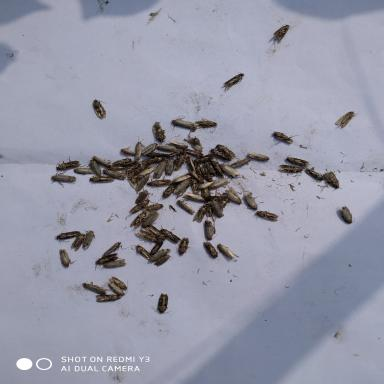pbw: (147, 287, 175, 318), (85, 95, 116, 122), (318, 169, 348, 196), (75, 274, 110, 296), (328, 107, 360, 131), (216, 67, 246, 92), (141, 231, 168, 258), (216, 183, 246, 207), (52, 246, 82, 270), (128, 239, 156, 264), (47, 153, 82, 173), (168, 112, 198, 134), (146, 119, 172, 144), (138, 207, 166, 230), (44, 170, 79, 188), (199, 215, 220, 245), (128, 168, 152, 194), (203, 195, 227, 221), (123, 194, 150, 217), (268, 129, 302, 147), (240, 145, 272, 164), (97, 257, 134, 273), (100, 166, 132, 184), (130, 226, 162, 244), (153, 151, 176, 176), (186, 131, 211, 154), (153, 225, 183, 244), (79, 171, 114, 187), (141, 249, 172, 267), (214, 142, 243, 161), (126, 208, 151, 230), (236, 191, 262, 212), (190, 116, 224, 132), (52, 225, 82, 243), (194, 171, 221, 191), (214, 242, 240, 262), (168, 148, 188, 174), (227, 154, 254, 173), (88, 252, 122, 267), (149, 139, 183, 154), (335, 203, 357, 226), (198, 239, 221, 261), (76, 227, 98, 250), (207, 154, 228, 178), (170, 195, 195, 215), (215, 161, 241, 180), (135, 162, 156, 185), (202, 147, 234, 162), (192, 202, 212, 226), (272, 162, 304, 177), (104, 280, 132, 297), (300, 166, 326, 184), (252, 208, 281, 224), (282, 153, 312, 168), (99, 157, 129, 172), (178, 189, 208, 204), (135, 175, 172, 187), (172, 177, 192, 199), (131, 184, 151, 206), (128, 155, 168, 166), (88, 154, 115, 170), (180, 150, 200, 171), (72, 163, 104, 176), (174, 235, 192, 258), (130, 134, 144, 163), (173, 146, 204, 159), (163, 136, 188, 152), (168, 170, 193, 186), (69, 231, 88, 252), (207, 177, 233, 192), (115, 146, 143, 159), (92, 294, 124, 305), (141, 200, 164, 213), (162, 177, 176, 197)
